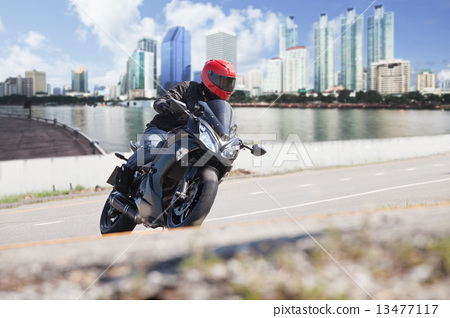helmet: (200, 55, 239, 101)
